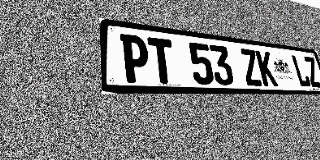3: (209, 45, 235, 85)
5: (188, 42, 215, 85)
K: (255, 50, 278, 86)
L: (290, 55, 312, 87)
P: (120, 34, 151, 83)
T: (147, 37, 177, 84)
Z: (239, 48, 263, 86), (303, 56, 320, 88)
